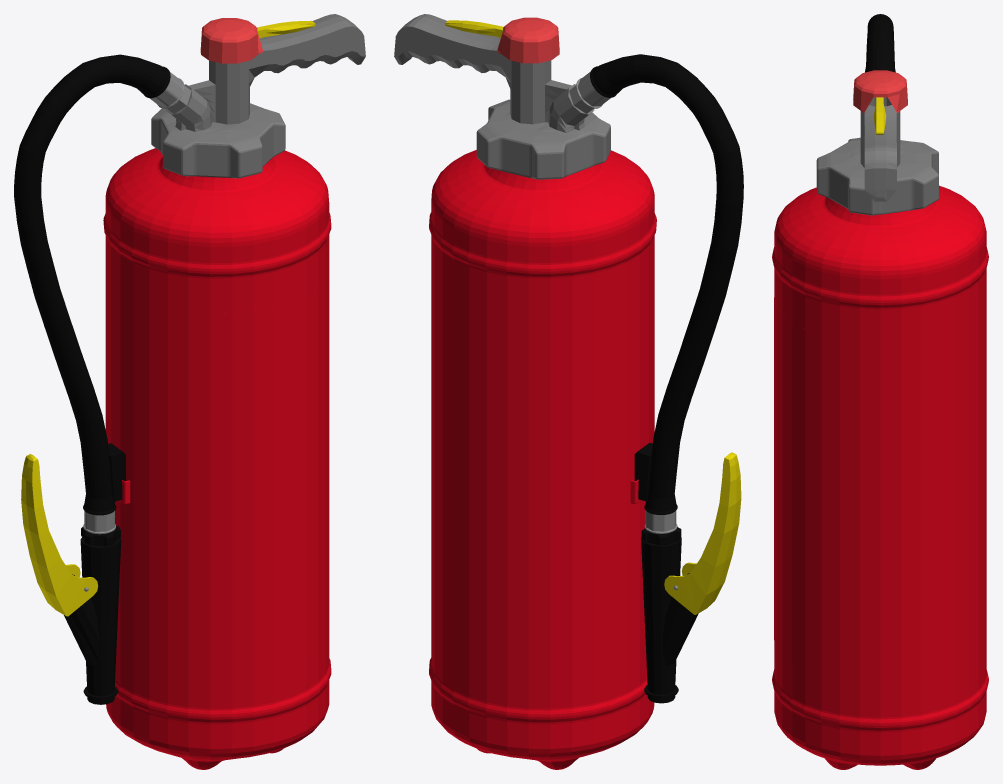
Rendered from fireExtinguisher.obj.
The picture shows the model from 3 angles, left to right: view 1: azimuth 30°, elevation 25°; view 2: azimuth 150°, elevation 25°; view 3: azimuth 270°, elevation 25°; orthographic projection. The views are drawn at different scales.
Visible parts, largest first — view 1: Fire_Extinguisher_Cylinder; view 2: Fire_Extinguisher_Cylinder; view 3: Fire_Extinguisher_Cylinder.
Part boxes in pixels (x1,y1,x2,y2): Fire_Extinguisher_Cylinder: (14, 14, 365, 769); Fire_Extinguisher_Cylinder: (394, 14, 743, 769); Fire_Extinguisher_Cylinder: (772, 14, 988, 769).
Size of the model in its own units: 31.08 by 62.32 by 18.02.
